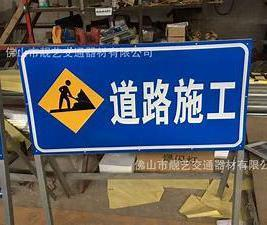sign: (21, 41, 249, 155)
